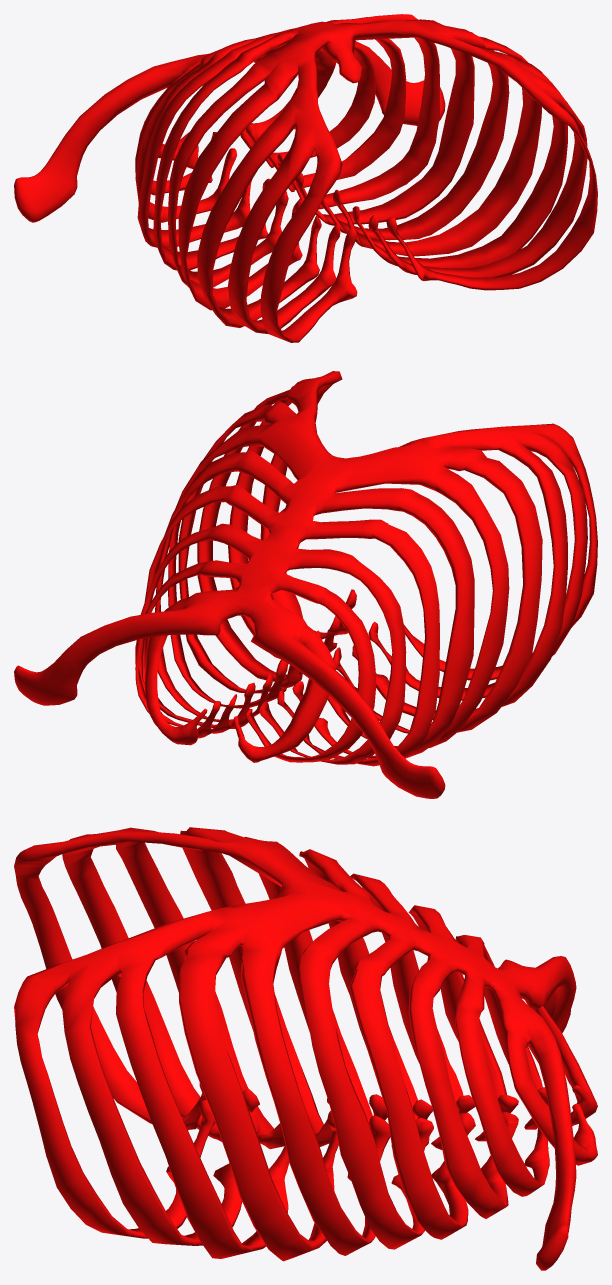
The model's file is SM_Ribs.FBX.
3 views of the same model, one above another, from view 1: azimuth 30°, elevation 25°; view 2: azimuth 150°, elevation 25°; view 3: azimuth 270°, elevation 25° (orthographic). The views are drawn at different scales.
Visible parts, largest first — view 1: Ribs; view 2: Ribs; view 3: Ribs.
Boxes of the visible parts, left/top/right/bottom form: Ribs: left=14, top=14, right=597, bottom=342; Ribs: left=14, top=371, right=597, bottom=798; Ribs: left=14, top=827, right=597, bottom=1270.
Bounding box in the file's own units: 35.73 × 20.96 × 34.95.
